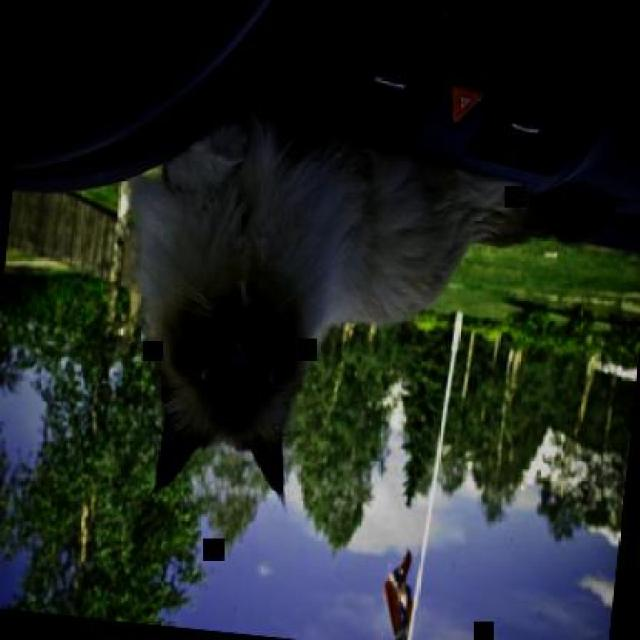cat: (98, 85, 620, 537)
